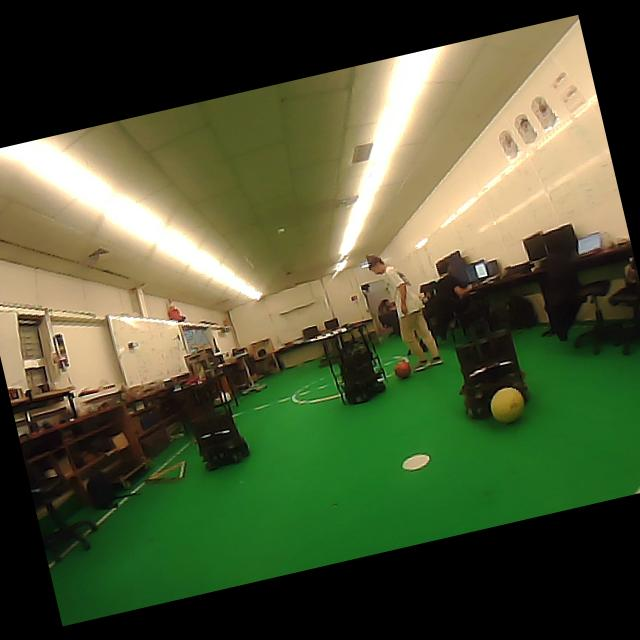ball: (490, 387, 524, 423), (394, 358, 411, 378)
robot: (455, 316, 530, 419), (182, 374, 250, 469), (322, 322, 386, 404), (315, 332, 332, 338)
